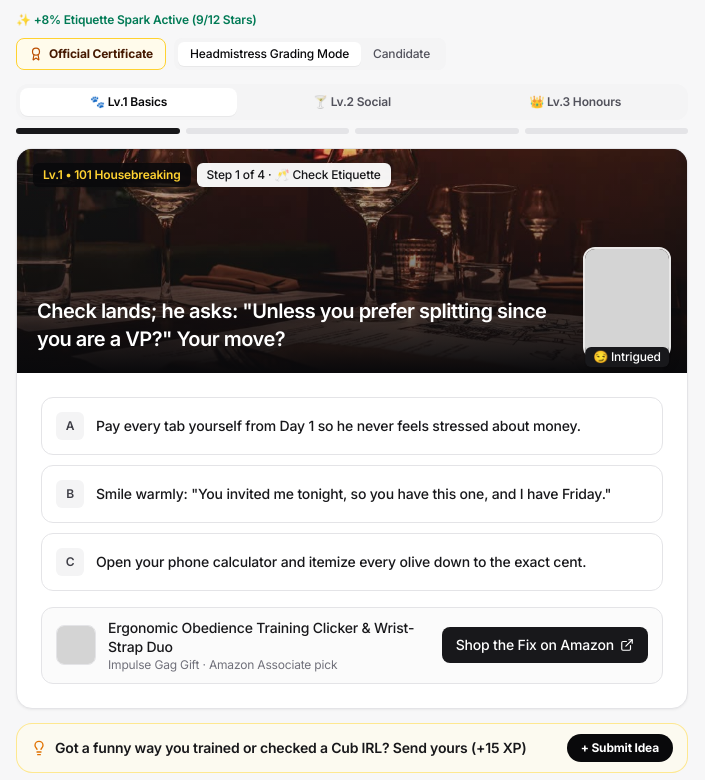
v40 Shareable Cougar/Cub Gold-Seal Vetting Certificates, /api/og?cert=1 Cards & Section-by-Section Delight Polish › mints personalized Cougar & Cub Gold-Seal Vetting Certificates in Cub School and opens shared ?cert=1 links directly
Later steps or results of the test are not shown.
Click the button with test id "open-vetting-certificate-btn" at (91, 54), box [16, 38, 166, 70]
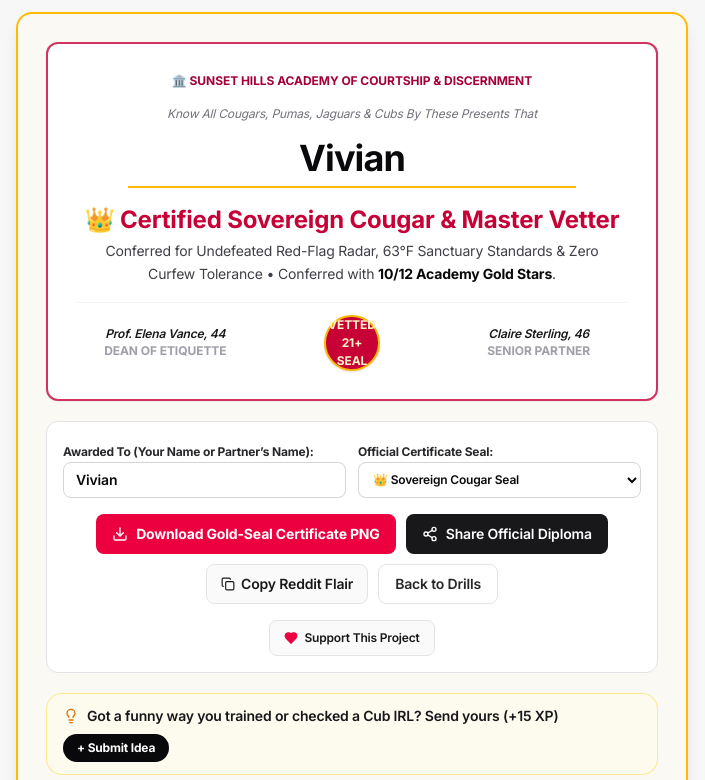
Customize recipient name to confer a Vetted Cub Diploma onto a partner
Replace the text in the field with test id "certificate-recipient-input" with "Julian" at (204, 480), box [63, 462, 346, 498]
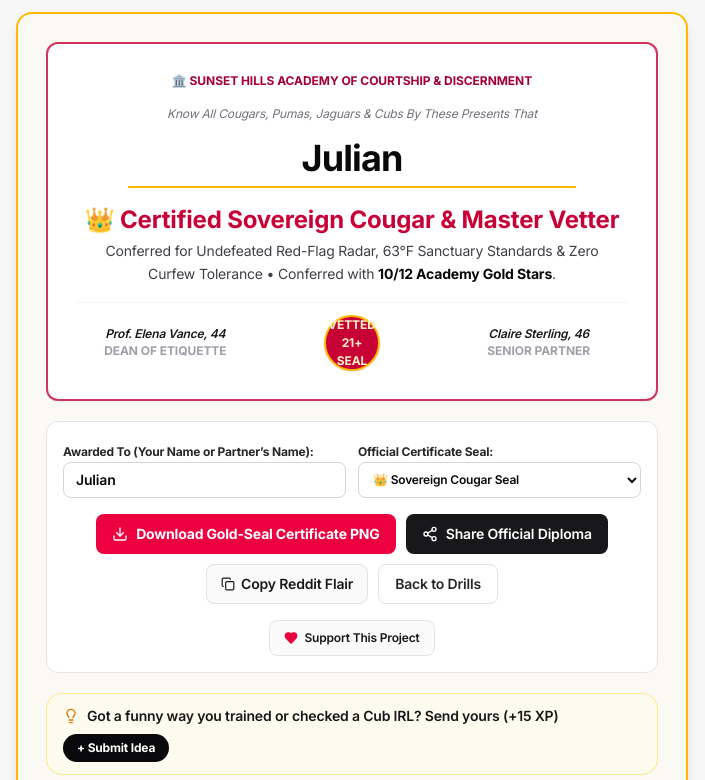
Select "🐕 Cub Diploma Seal" in the dropdown named "Select Certificate Seal" at (500, 480), box [358, 462, 641, 498]
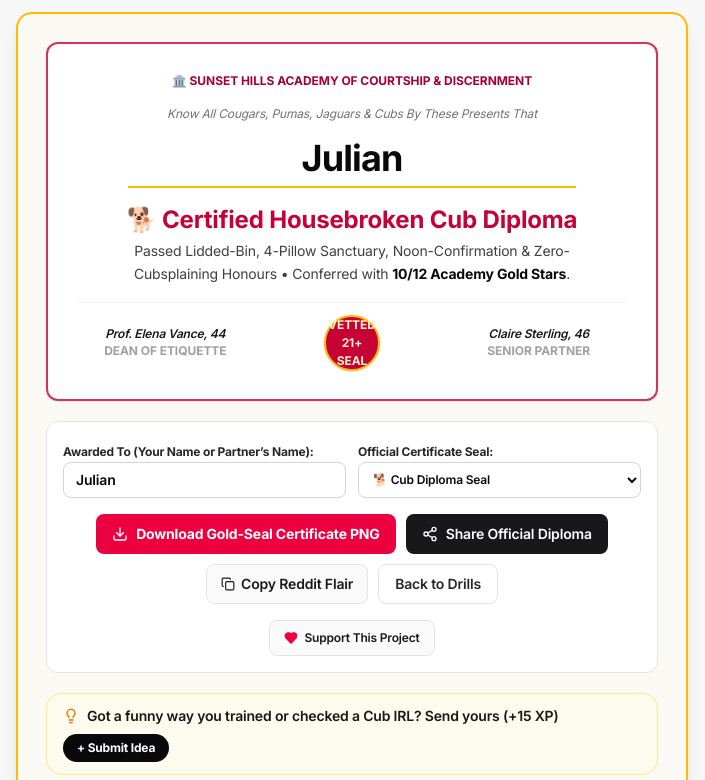
Expected: the button with test id "download-gold-certificate-btn" is shown, [96, 514, 396, 554]
Expected: the button with test id "copy-reddit-certificate-btn" is shown, [206, 564, 368, 604]
